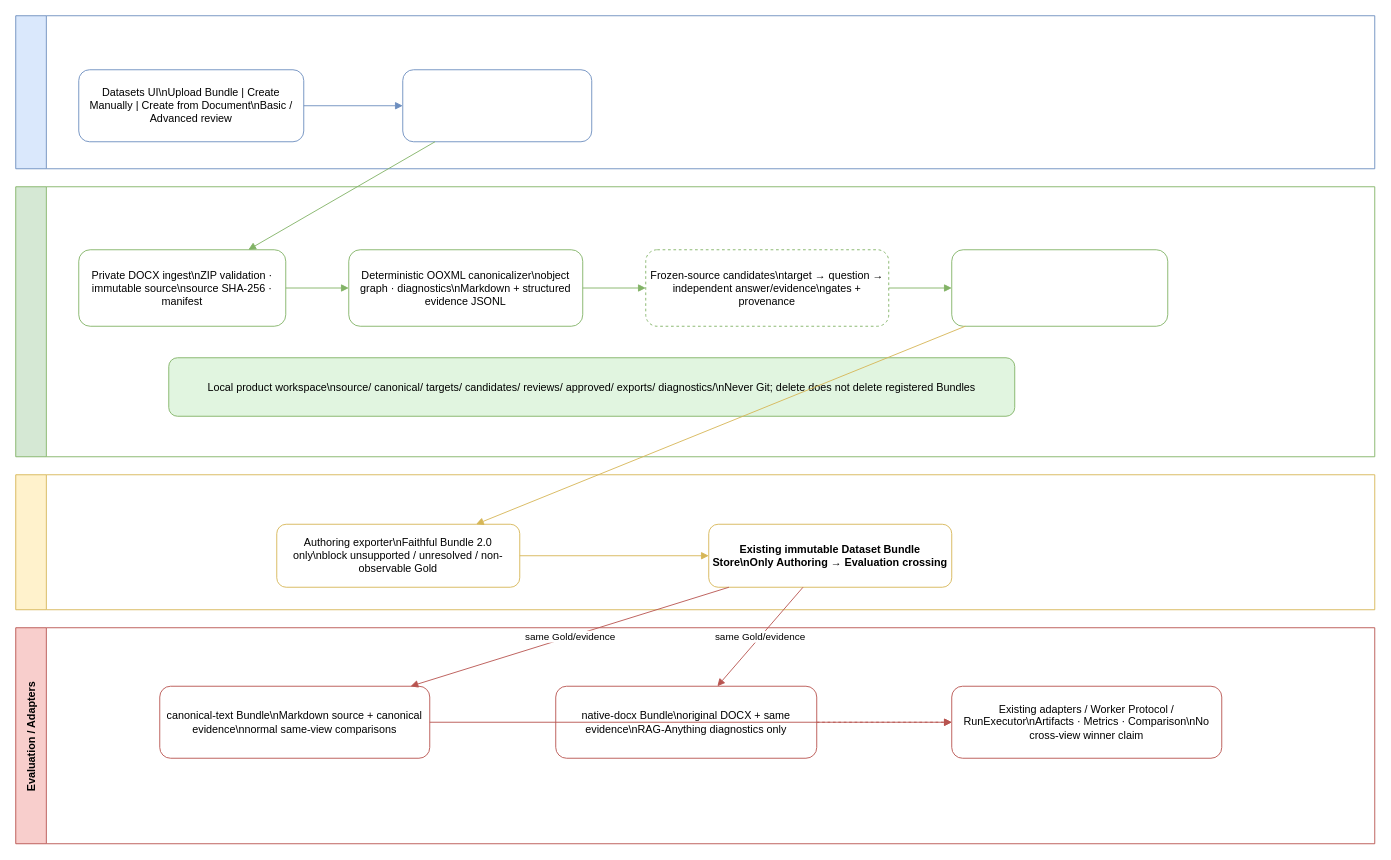
The diagram is 1391 pixels wide and 860 high, and some of its shapes have lost their labels. The shapes that lost their labels are listed below. From the top down, each one's box as (x1, y1, x2, y2) in pixels, then its label:
(402, 69, 592, 142): /api/v1/authoring/*\ncomposition layer
(15, 15, 1375, 169): Product / WebUI
(951, 249, 1168, 326): Mandatory reviewer decision\nAccept · Edit · Reject\nOnly approved becomes Gold
(15, 186, 1375, 457): Authoring Domain (co-hosted; Evaluation Core does not import)
(15, 474, 1375, 610): Immutable Bundle Export Boundary
